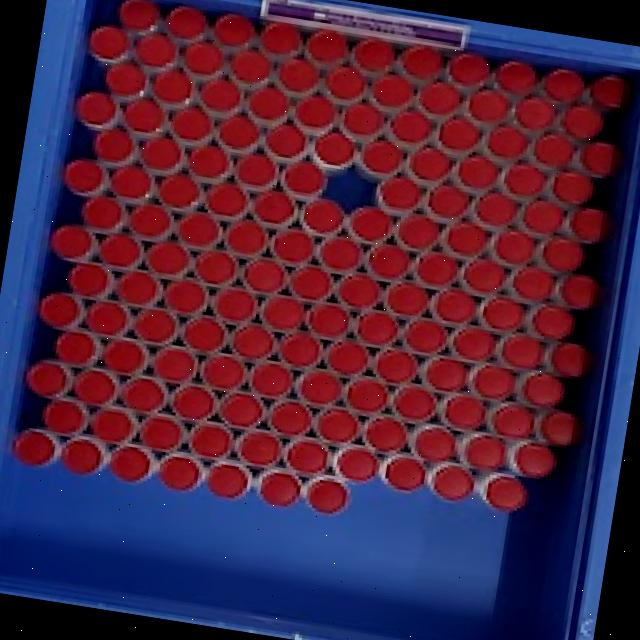vials: (508, 440, 558, 478), (26, 360, 74, 399), (73, 368, 119, 407), (459, 432, 506, 470), (170, 384, 218, 421), (13, 429, 59, 467), (42, 399, 89, 436), (54, 330, 102, 366), (120, 377, 168, 413), (314, 408, 362, 444), (412, 424, 456, 463), (317, 237, 363, 274), (51, 224, 97, 261), (146, 241, 192, 278), (133, 308, 179, 345), (469, 364, 515, 401), (152, 347, 198, 384), (219, 392, 265, 429), (380, 455, 426, 492), (139, 415, 185, 452), (200, 354, 247, 390), (40, 292, 84, 330), (325, 340, 370, 377), (268, 400, 313, 437), (238, 430, 283, 467), (189, 422, 234, 459), (337, 273, 383, 309), (431, 289, 477, 325), (116, 270, 162, 306), (333, 446, 379, 482), (306, 30, 349, 68), (141, 137, 184, 175), (249, 361, 292, 399), (285, 438, 329, 475), (61, 438, 105, 475), (109, 445, 153, 482), (305, 477, 349, 514), (63, 159, 108, 195), (177, 213, 222, 249), (243, 258, 288, 294), (230, 324, 275, 360), (298, 370, 343, 406), (536, 410, 579, 447), (364, 416, 407, 453), (208, 462, 251, 499), (460, 259, 504, 295), (225, 221, 269, 257), (194, 250, 238, 286), (184, 317, 228, 353), (374, 348, 418, 384), (104, 339, 148, 375), (91, 408, 135, 444), (82, 197, 127, 232), (479, 297, 524, 332), (68, 263, 113, 298), (259, 470, 301, 507), (495, 61, 538, 97), (350, 206, 393, 242), (279, 332, 322, 368), (385, 282, 429, 317), (404, 319, 448, 354), (521, 372, 565, 407), (393, 386, 437, 421), (531, 305, 576, 339), (152, 70, 194, 106), (396, 214, 438, 250), (543, 237, 585, 273), (290, 266, 332, 302), (486, 476, 528, 512), (353, 38, 396, 73), (100, 234, 143, 269), (501, 334, 544, 369), (356, 311, 399, 346), (86, 301, 129, 336), (367, 244, 411, 278), (129, 204, 173, 238), (261, 296, 305, 330), (444, 394, 485, 430), (433, 465, 474, 501), (302, 199, 344, 234), (445, 222, 487, 257), (513, 267, 555, 302), (271, 229, 313, 264), (165, 280, 207, 315), (159, 456, 201, 491), (371, 74, 414, 108), (206, 183, 249, 217), (415, 252, 458, 286), (214, 288, 257, 322), (346, 379, 389, 413), (580, 141, 620, 177), (106, 62, 147, 97), (523, 200, 564, 235), (494, 230, 535, 265), (309, 303, 350, 338), (166, 6, 208, 40), (419, 82, 461, 116), (200, 79, 242, 113), (171, 107, 213, 141), (361, 140, 403, 174), (552, 171, 594, 205), (427, 185, 469, 219), (453, 327, 495, 361), (425, 358, 467, 392), (492, 404, 534, 438), (400, 45, 443, 78), (235, 154, 278, 187), (189, 146, 232, 179), (253, 191, 296, 224), (544, 68, 584, 103), (89, 25, 129, 60), (570, 208, 610, 243), (214, 13, 255, 47), (136, 34, 177, 68), (468, 89, 509, 123), (533, 134, 574, 168), (390, 110, 431, 144), (94, 128, 135, 162), (551, 342, 589, 378), (590, 75, 630, 109), (279, 59, 319, 93), (266, 124, 306, 158), (381, 177, 421, 211), (119, 0, 160, 33), (231, 50, 272, 83), (326, 66, 367, 99), (562, 106, 603, 139), (487, 126, 528, 159), (77, 92, 118, 125), (125, 100, 166, 133), (159, 175, 200, 208), (260, 23, 302, 55), (111, 167, 153, 199), (561, 274, 598, 310), (516, 97, 555, 131), (184, 42, 224, 75), (438, 118, 478, 151), (249, 87, 289, 120), (219, 116, 259, 149), (315, 132, 355, 165), (410, 148, 450, 181), (449, 53, 490, 85), (344, 103, 383, 136), (297, 96, 337, 128), (459, 156, 499, 188), (476, 192, 516, 224), (504, 165, 544, 196), (286, 162, 324, 194)
